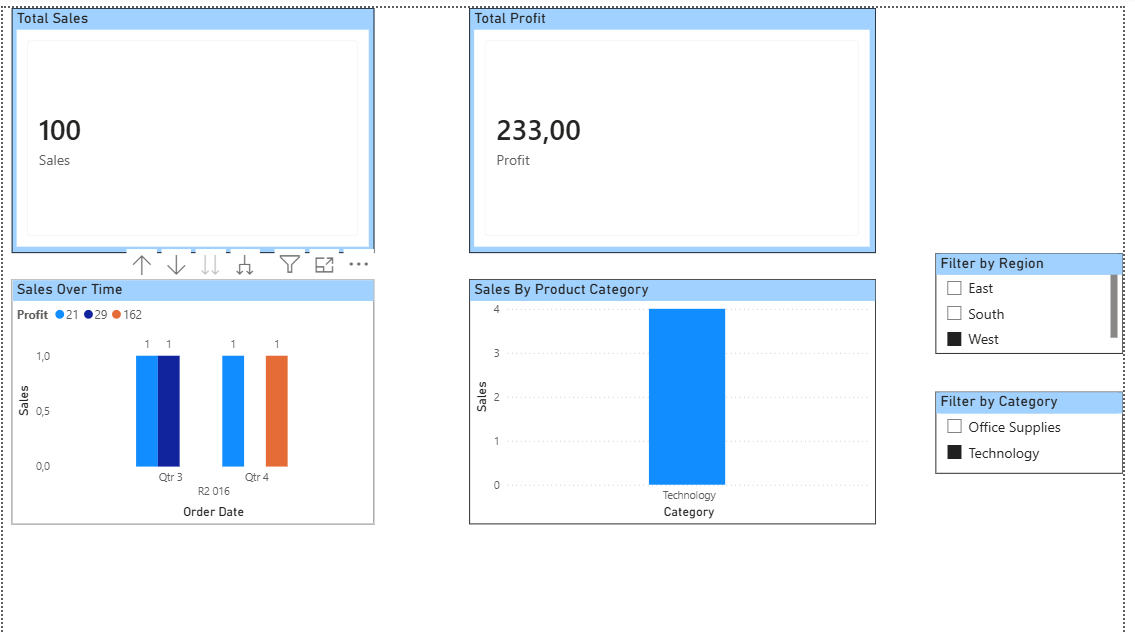

The page's visual inventory and layout, read from the dashboard file:
{"tool":"powerbi","page":{"name":"Page 1","canvas":[1280,720],"ordinal":0},"visuals":[{"type":"cardVisual","title":"Total Sales","fields":{"Data":["Min(Sample - Superstore.Sales)"]},"box":[9.8,0,414.5,280],"z":0},{"type":"cardVisual","title":"Total Profit","fields":{"Data":["Sum(Sample - Superstore.ProfitDecimal)"]},"box":[533.2,0,464.7,280],"z":1000},{"type":"clusteredColumnChart","title":"Sales Over Time","fields":{"Category":["Sample - Superstore.Order Date.Variation.Date Hierarchy.Year","Sample - Superstore.Order Date.Variation.Date Hierarchy.Quarter","Sample - Superstore.Order Date.Variation.Date Hierarchy.Month","Sample - Superstore.Order Date.Variation.Date Hierarchy.Day"],"Y":["CountNonNull(Sample - Superstore.Sales)"],"Series":["Sample - Superstore.ProfitDecimal"]},"box":[9.8,309.4,414.5,280],"z":2000},{"type":"clusteredColumnChart","title":"Sales By Product Category","fields":{"Category":["Sample - Superstore.Category"],"Y":["CountNonNull(Sample - Superstore.Sales)"]},"box":[533.2,309.4,464.7,280],"z":3000},{"type":"slicer","title":"Filter by Region","fields":{"Values":["Sample - Superstore.Region"]},"box":[1066.2,279.9,214.1,115.3],"z":4000},{"type":"slicer","title":"Filter by Category","fields":{"Values":["Sample - Superstore.Category"]},"box":[1066.2,439.1,214.1,93.3],"z":5000}]}

Visuals, with their boxes in screenshot pixels (x1, y1, x2, y2), scaled from the page's 1280x720 canvas onto the 1135x632 screenshot:
"Total Sales" cardVisual: 9, 0, 376, 246
"Total Profit" cardVisual: 473, 0, 885, 246
"Sales Over Time" clusteredColumnChart: 9, 272, 376, 517
"Sales By Product Category" clusteredColumnChart: 473, 272, 885, 517
"Filter by Region" slicer: 945, 246, 1134, 347
"Filter by Category" slicer: 945, 385, 1134, 467
